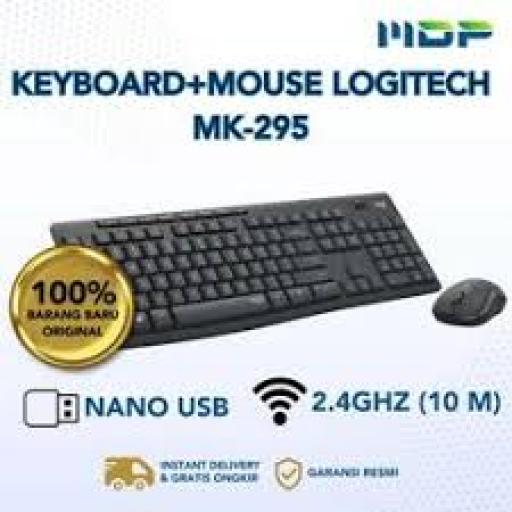keyboard: (55, 193, 437, 346)
